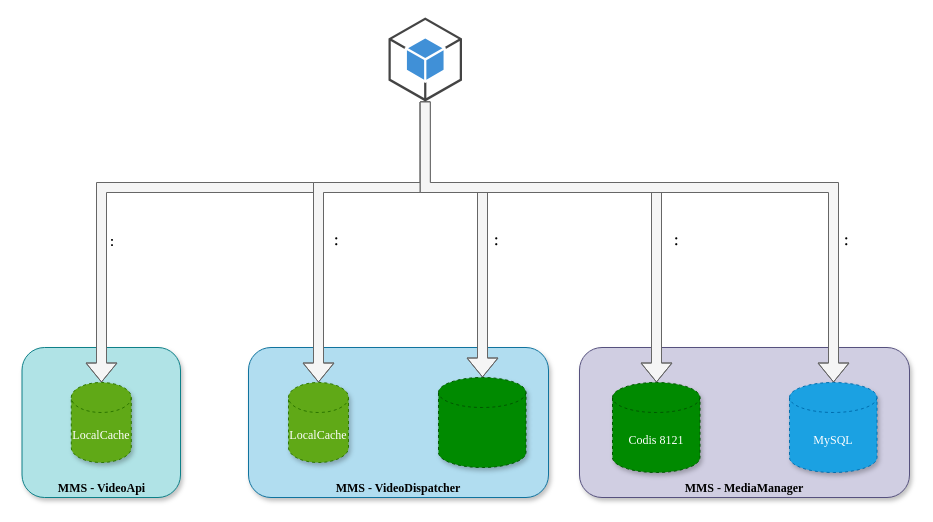
This 933x522 diagram has some shape labels left out. The centre of each missing label's shape, as x and y in pixels:
Codis 8122: (483,423)
Server SDK: (425,59)
